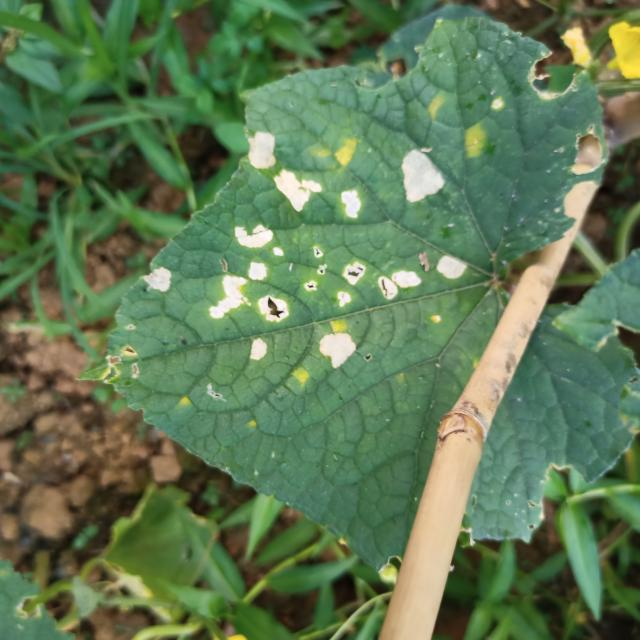disease_cucumber: (206, 223, 428, 374), (399, 144, 448, 207), (274, 170, 324, 216), (141, 262, 182, 299), (244, 128, 278, 172), (320, 133, 359, 170), (337, 186, 369, 227), (462, 122, 491, 166), (436, 252, 468, 284), (425, 88, 449, 123), (288, 366, 316, 389), (326, 314, 354, 335)
